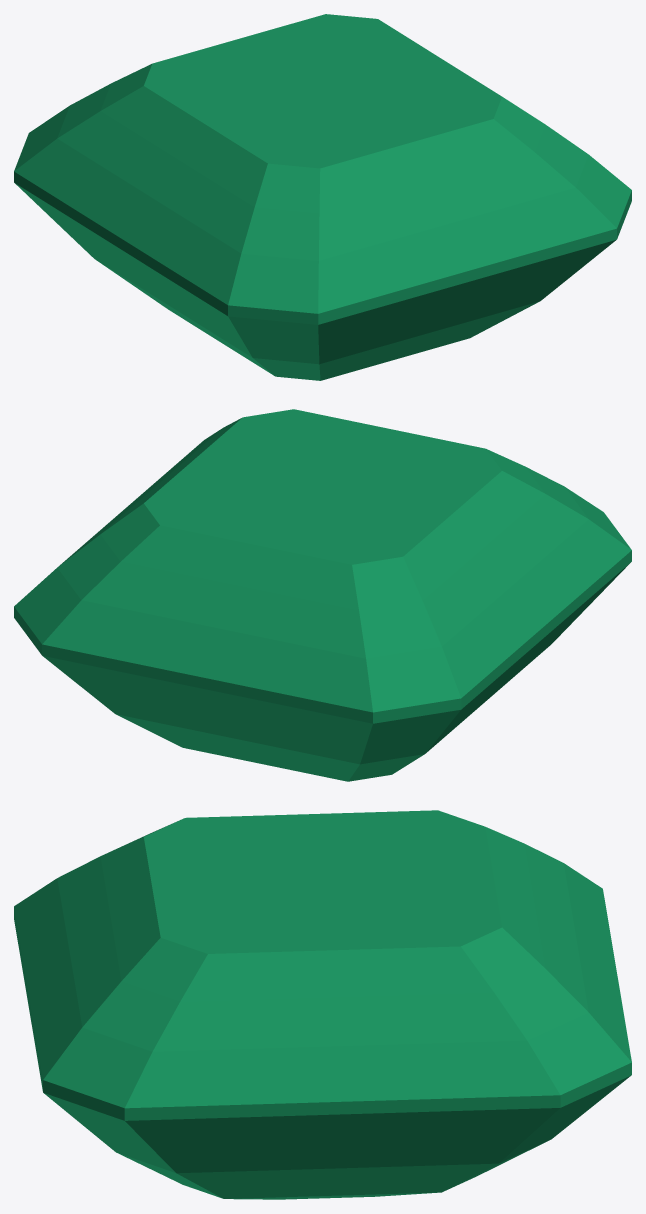
Rendered from stone-emerald.glb.
The picture shows the model from 3 angles, top to bottom: view 1: azimuth 30°, elevation 25°; view 2: azimuth 150°, elevation 25°; view 3: azimuth 270°, elevation 25°; orthographic projection. The views are drawn at different scales.
Visible parts, largest first — view 1: Gemstone Emerald; view 2: Gemstone Emerald; view 3: Gemstone Emerald.
Boxes of the visible parts, x1,y1,x2,y2 form: Gemstone Emerald: (14,14,631,380); Gemstone Emerald: (14,409,631,781); Gemstone Emerald: (14,810,631,1199).
Bounding box in the file's own units: 2.11 × 1.15 × 2.22.
